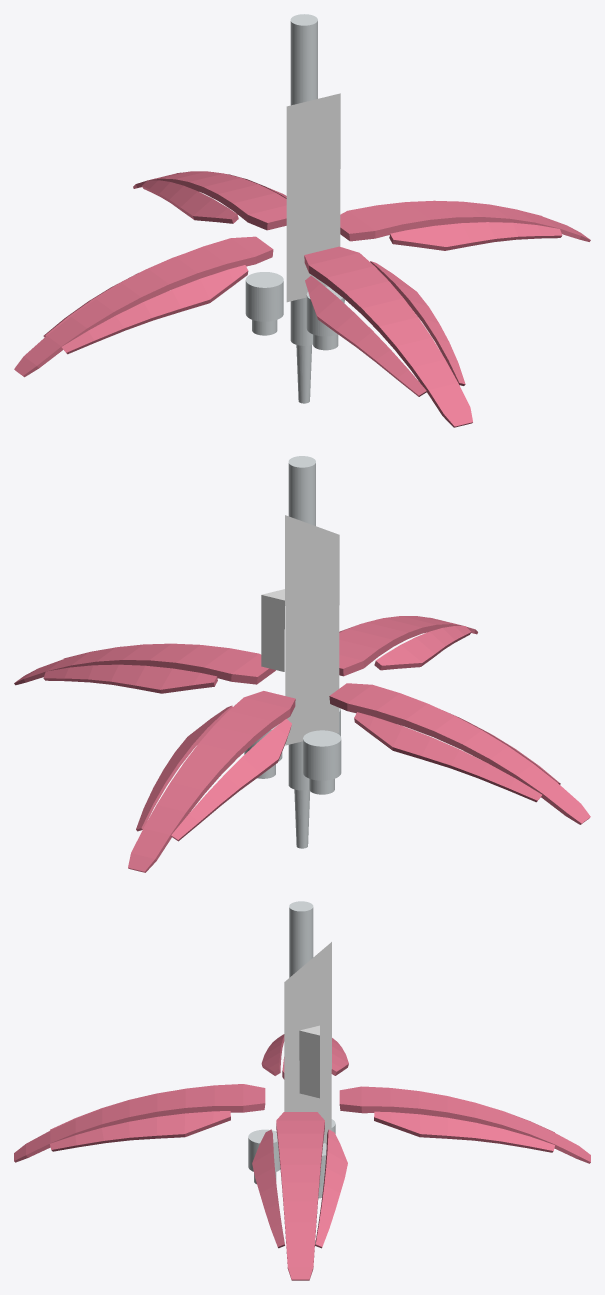
The model's file is station_defense_1.glb.
3 renders of one model, top to bottom at view 1: azimuth 30°, elevation 25°; view 2: azimuth 150°, elevation 25°; view 3: azimuth 270°, elevation 25°, orthographic. The views are drawn at different scales.
Parts seen in each view (by area): view 1: Cube.005, Cube.004, Cylinder.018, Cube.002, Cube.001, Cylinder.014, Cylinder.020, Cylinder.021; view 2: Cube.001, Cube.004, Cylinder.018, Cube.002, Cube.005, Cylinder.014, Cylinder.020, Cylinder.017; view 3: Cube.002, Cube.005, Cube.001, Cylinder.018, Cylinder.014, Cylinder.017, Cube.004, Cylinder.021.
Boxes of the visible parts, x1=… form: Cube.005: x1=304, y1=246, x2=472, y2=427; Cube.004: x1=14, y1=236, x2=273, y2=377; Cylinder.018: x1=286, y1=93, x2=340, y2=302; Cube.002: x1=340, y1=200, x2=590, y2=250; Cube.001: x1=133, y1=171, x2=286, y2=230; Cylinder.014: x1=290, y1=14, x2=317, y2=403; Cylinder.020: x1=245, y1=272, x2=283, y2=335; Cylinder.021: x1=306, y1=286, x2=344, y2=350; Cube.001: x1=128, y1=691, x2=295, y2=872; Cube.004: x1=329, y1=683, x2=590, y2=824; Cylinder.018: x1=285, y1=515, x2=339, y2=745; Cube.002: x1=14, y1=643, x2=275, y2=693; Cube.005: x1=339, y1=616, x2=477, y2=676; Cylinder.014: x1=288, y1=456, x2=315, y2=848; Cylinder.020: x1=303, y1=730, x2=341, y2=794; Cylinder.017: x1=261, y1=589, x2=284, y2=671; Cube.002: x1=252, y1=1112, x2=347, y2=1280; Cube.005: x1=14, y1=1084, x2=265, y2=1162; Cube.001: x1=339, y1=1086, x2=590, y2=1163; Cylinder.018: x1=284, y1=942, x2=331, y2=1143; Cylinder.014: x1=289, y1=901, x2=313, y2=977; Cylinder.017: x1=299, y1=1025, x2=319, y2=1098; Cube.004: x1=261, y1=1034, x2=348, y2=1079; Cylinder.021: x1=248, y1=1129, x2=280, y2=1184.
Size of the model in its own units: 166 by 107 by 166.
